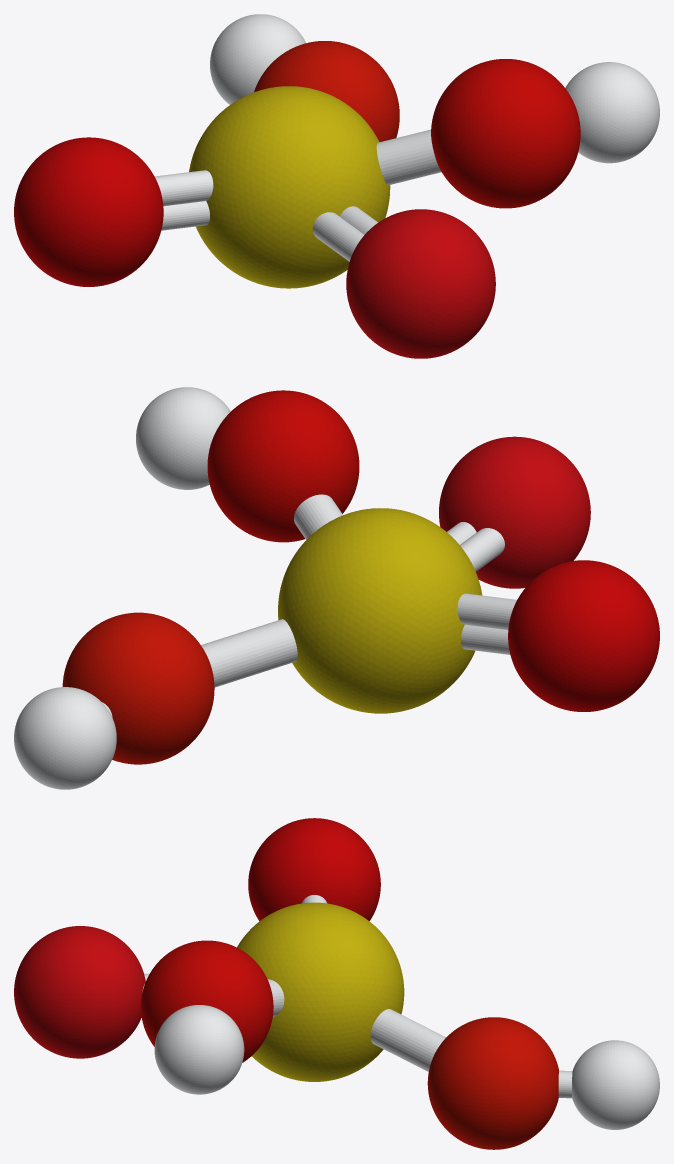
File: sulfuric_acid.glb
The picture shows the model from 3 angles, top to bottom: view 1: azimuth 30°, elevation 25°; view 2: azimuth 150°, elevation 25°; view 3: azimuth 270°, elevation 25°; orthographic projection. The views are drawn at different scales.
Visible parts, largest first — view 1: Sulfur_S, Oxygen_O1, Oxygen_O2, Oxygen_O4, Hydrogen_H4, Oxygen_O3, Hydrogen_H3, S_O4, S_O2_DoubleA, S_O1_DoubleA, S_O2_DoubleB, S_O1_DoubleB; view 2: Sulfur_S, Oxygen_O2, Oxygen_O4, Oxygen_O3, Oxygen_O1, Hydrogen_H3, Hydrogen_H4, S_O3, S_O2_DoubleA, S_O4, S_O1_DoubleA, S_O2_DoubleB; view 3: Sulfur_S, Oxygen_O3, Oxygen_O1, Oxygen_O2, Oxygen_O4, Hydrogen_H4, Hydrogen_H3, S_O3.
Part boxes in pixels (x1,y1,x2,y2): Sulfur_S: (189,86,390,288); Oxygen_O1: (346,209,495,358); Oxygen_O2: (14,137,163,286); Oxygen_O4: (431,59,580,208); Hydrogen_H4: (565,62,659,163); Oxygen_O3: (254,41,399,141); Hydrogen_H3: (210,14,305,104); S_O4: (376,129,441,185); S_O2_DoubleA: (154,170,213,206); S_O1_DoubleA: (312,212,364,261); S_O2_DoubleB: (161,201,209,230); S_O1_DoubleB: (340,206,377,234); Sulfur_S: (278,508,482,713); Oxygen_O2: (508,560,659,711); Oxygen_O4: (207,390,359,542); Oxygen_O3: (62,612,214,764); Oxygen_O1: (439,436,590,588); Hydrogen_H3: (14,687,116,789); Hydrogen_H4: (136,387,230,489); S_O3: (201,619,297,687); S_O2_DoubleA: (457,593,516,629); S_O4: (294,494,342,539); S_O1_DoubleA: (460,528,504,571); S_O2_DoubleB: (461,625,510,654); Sulfur_S: (237,902,404,1081); Oxygen_O3: (427,1017,558,1149); Oxygen_O1: (14,926,145,1058); Oxygen_O2: (248,818,380,921); Oxygen_O4: (141,940,273,1062); Hydrogen_H4: (154,1005,244,1094); Hydrogen_H3: (572,1040,659,1129); S_O3: (370,1009,445,1071).
Bounding box in the file's own units: 2.96 × 1.16 × 3.31.
